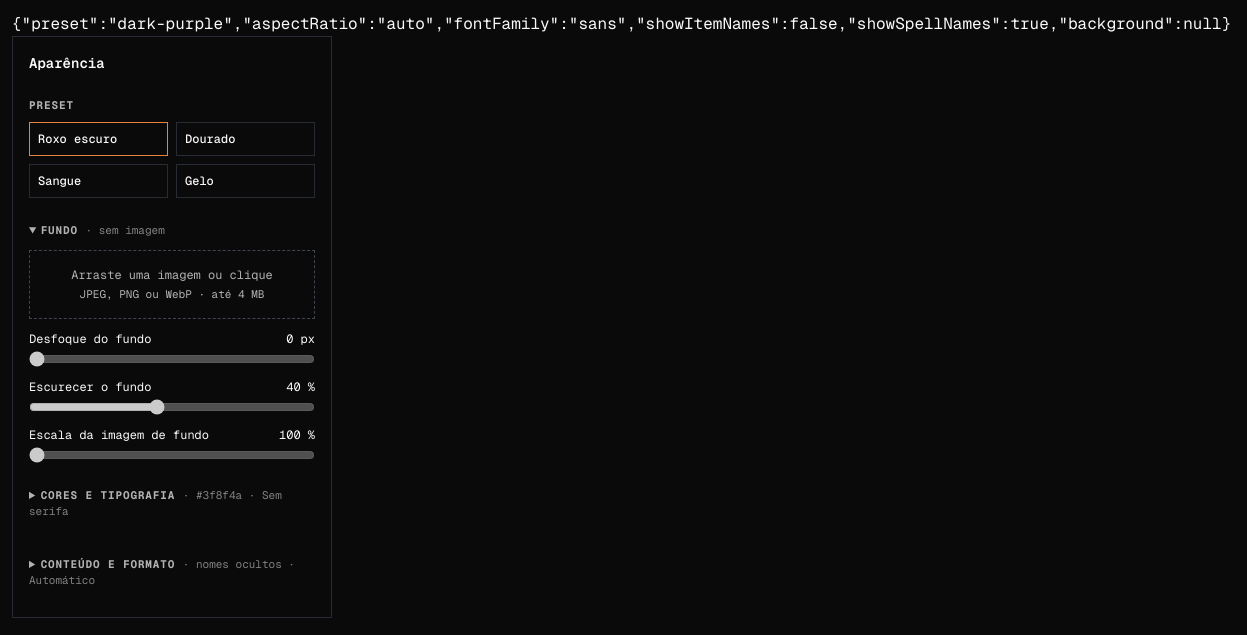
Test: ThemePanel (ACM-014) › clicking a preset updates theme.preset and marks it checked
Click the radio button labelled "Dourado". click: x=246, y=138
box: x1=176 y1=122 x2=315 y2=156
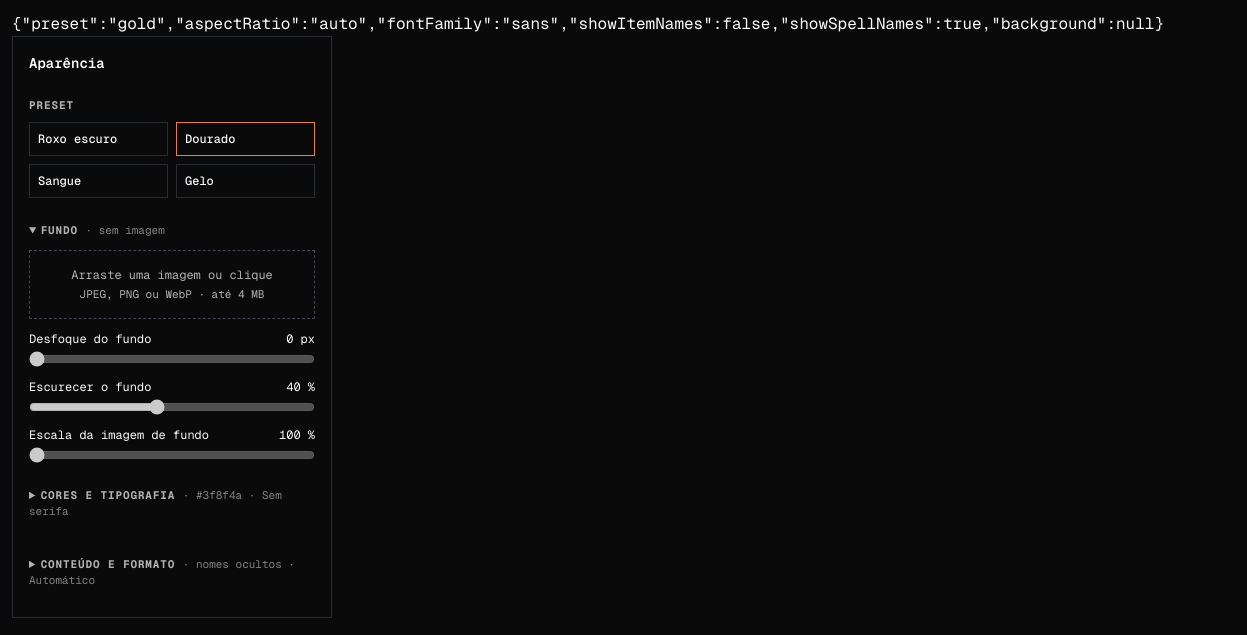
Result: the text with test id "theme-json" shows "\"preset\":\"gold\"" at x1=12 y1=13 x2=1164 y2=34
